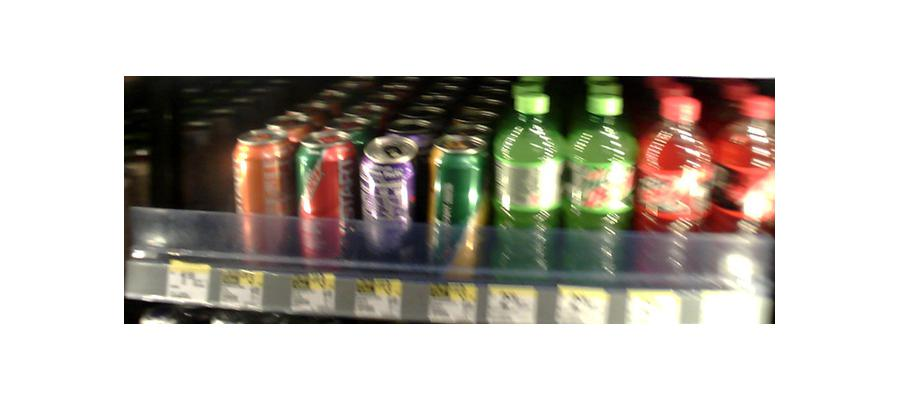bottle: (634, 93, 707, 281), (493, 83, 562, 277), (564, 89, 630, 278), (424, 127, 488, 276), (357, 137, 417, 264), (233, 125, 291, 256), (296, 135, 352, 262)
